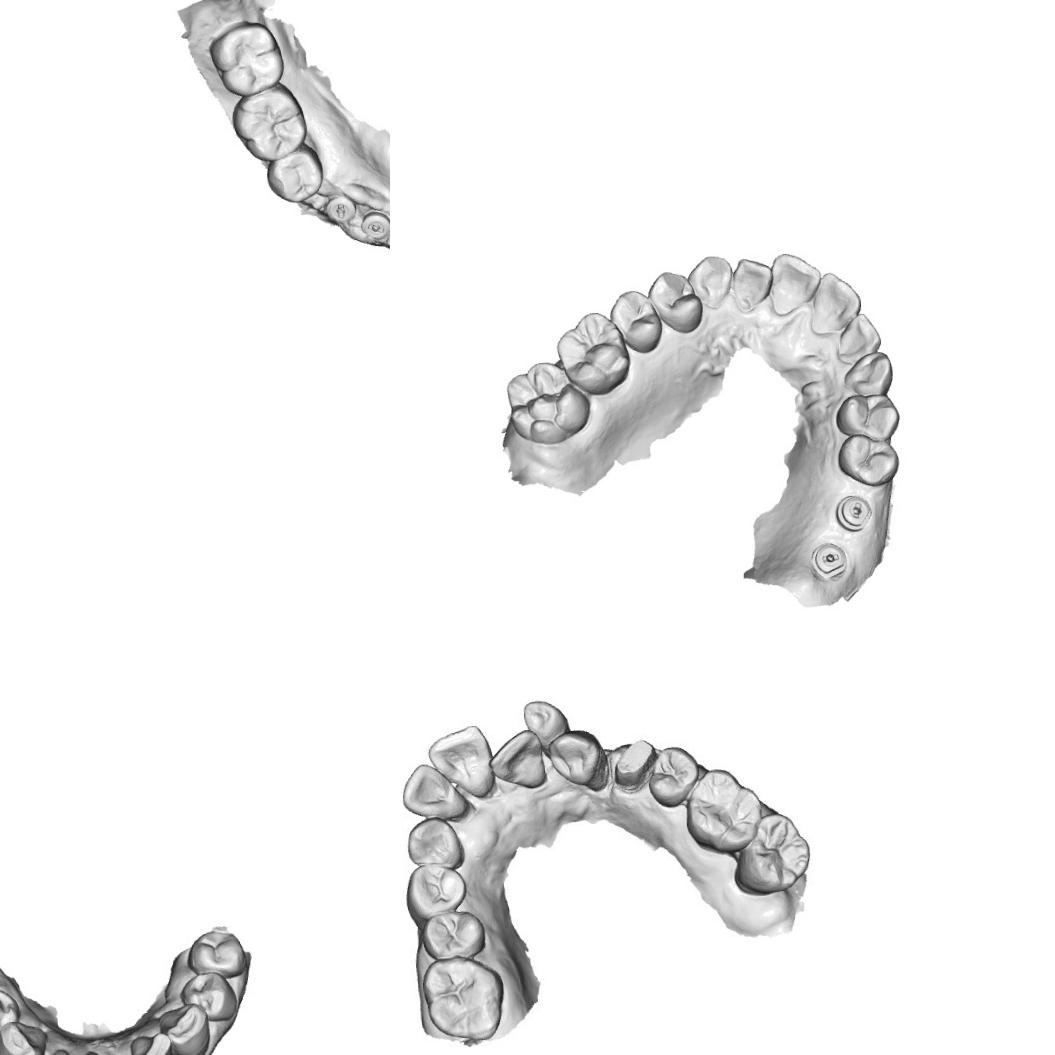canine: (545, 728, 606, 788), (403, 816, 465, 870), (156, 1000, 211, 1055), (840, 349, 898, 398), (685, 252, 734, 310), (0, 1018, 50, 1055)
crown: (608, 735, 658, 790)
implant_minus: (832, 491, 874, 533), (808, 540, 848, 580), (358, 210, 390, 240), (324, 190, 354, 222)
incisor: (424, 722, 497, 801), (398, 758, 469, 820), (764, 249, 823, 316), (807, 269, 864, 335), (491, 732, 550, 787), (728, 255, 775, 314), (833, 311, 883, 362), (520, 696, 570, 747), (128, 1030, 174, 1055)
molar: (502, 357, 592, 448), (728, 806, 814, 898), (681, 763, 769, 851), (552, 309, 633, 398), (422, 955, 504, 1040), (231, 87, 305, 156), (210, 25, 280, 93)
premolar: (402, 858, 470, 918), (644, 742, 703, 810), (606, 287, 664, 356), (646, 268, 704, 336), (834, 430, 900, 488), (264, 143, 322, 204), (184, 926, 248, 980), (419, 908, 485, 960), (834, 392, 902, 442), (176, 970, 238, 1024), (0, 985, 21, 1041)
